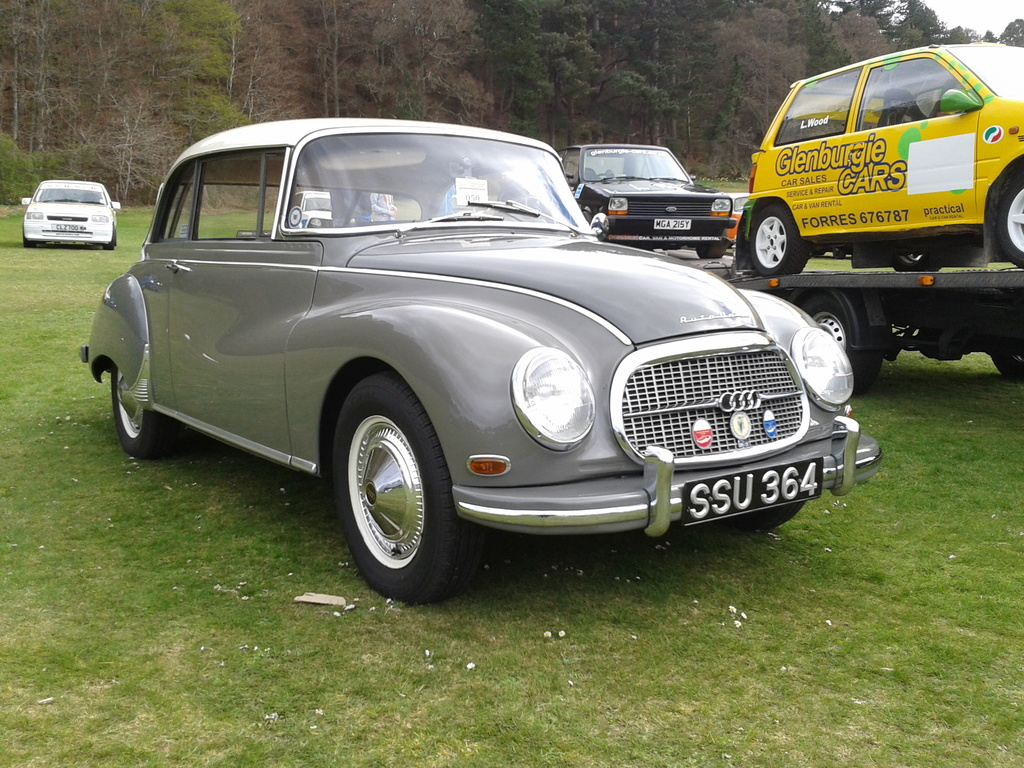Car: (71, 115, 879, 605), (746, 38, 1023, 266), (551, 138, 734, 265), (22, 177, 122, 249), (711, 188, 746, 251), (291, 188, 332, 232)
